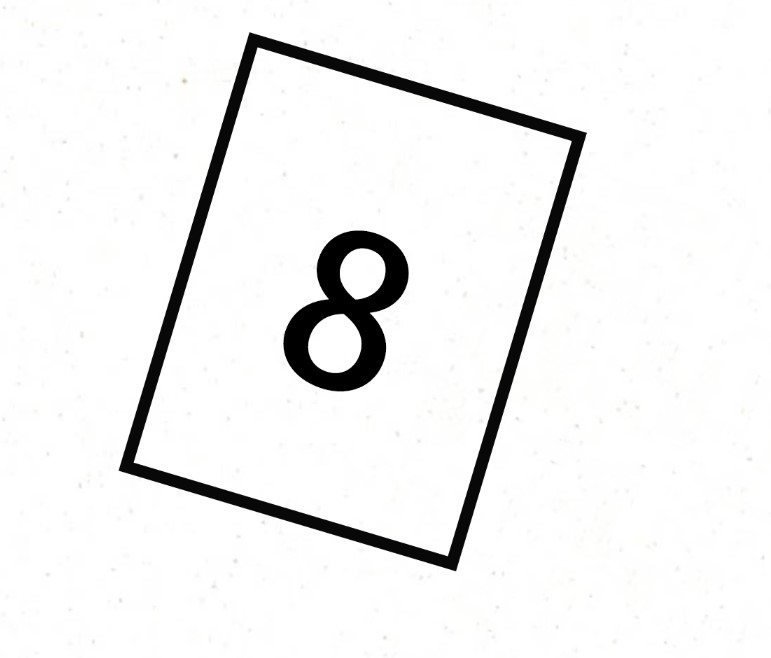eight: (265, 152, 438, 462)
